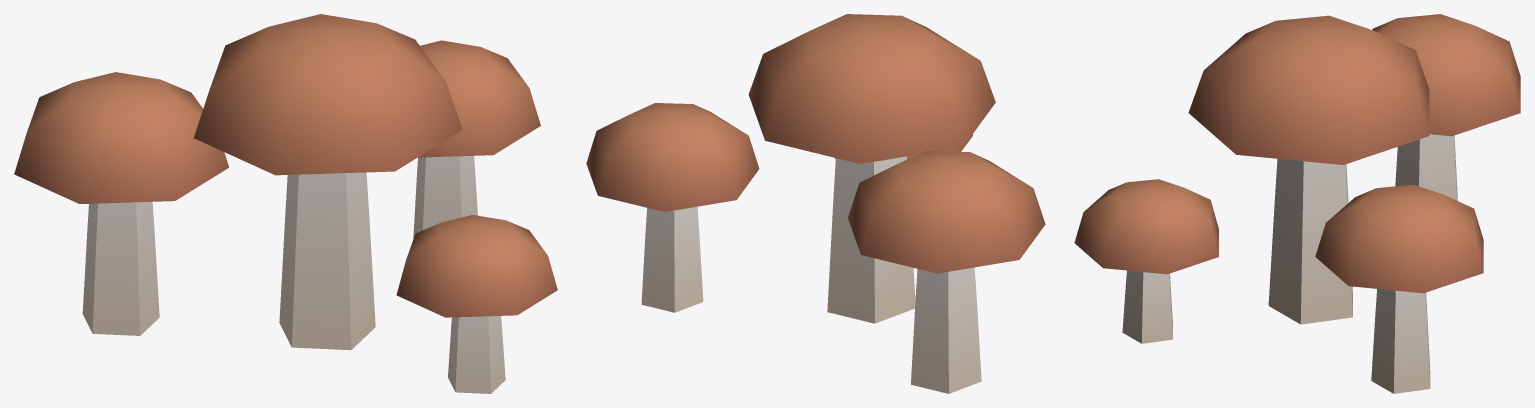
The model's file is mushrooms_A.fbx.
3 views of the same model, side by side, from view 1: azimuth 30°, elevation 25°; view 2: azimuth 150°, elevation 25°; view 3: azimuth 270°, elevation 25° (orthographic). The views are drawn at different scales.
Parts seen in each view (by area): view 1: mushrooms_A; view 2: mushrooms_A; view 3: mushrooms_A.
Part boxes in pixels (<box>): mushrooms_A: <box>14,14,557,393</box>; mushrooms_A: <box>586,14,1045,393</box>; mushrooms_A: <box>1074,14,1520,393</box>.
Bounding box in the file's own units: 0.3555 × 0.2082 × 0.3081.
1 material, 1 textured.
